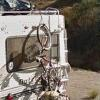Bicycle: (34, 18, 61, 93)
